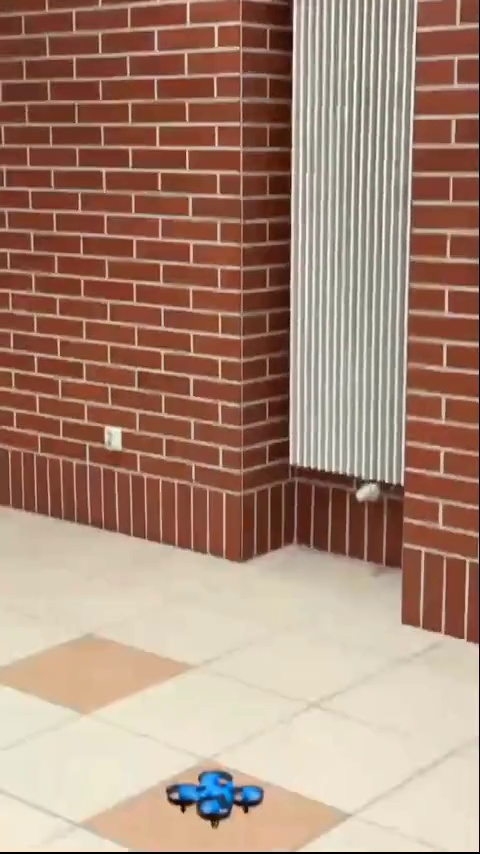drone: (163, 769, 267, 829)
